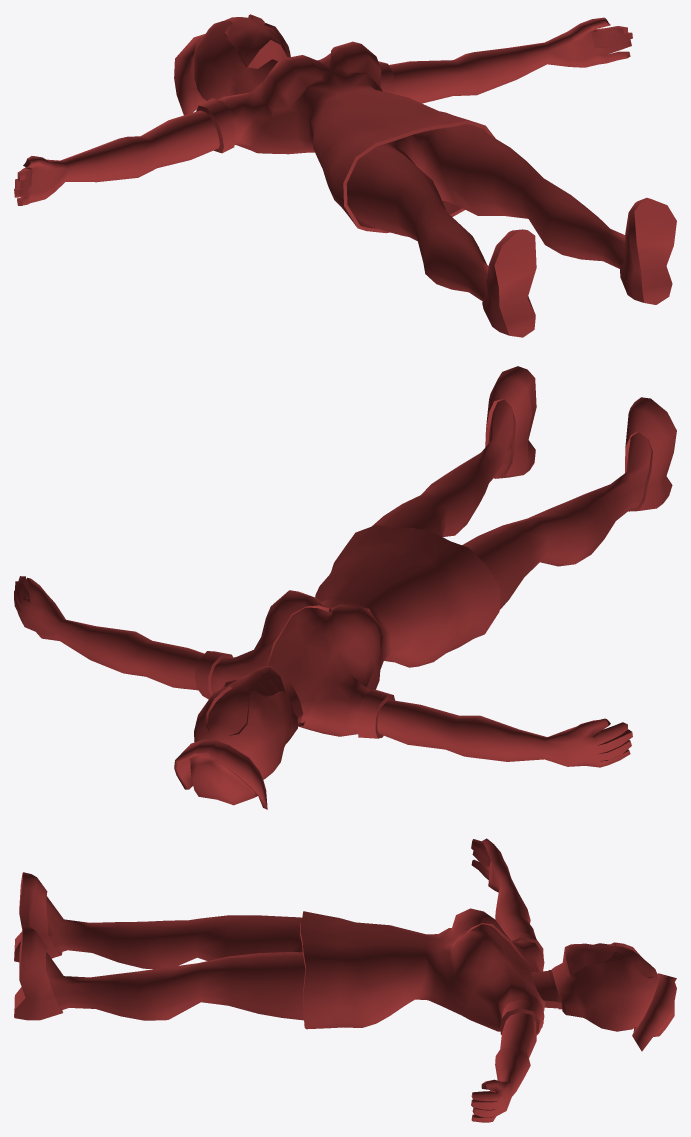
File: W_SH_Nurse.FBX
3 renders of one model, top to bottom at view 1: azimuth 30°, elevation 25°; view 2: azimuth 150°, elevation 25°; view 3: azimuth 270°, elevation 25°, orthographic. The views are drawn at different scales.
Visible parts, largest first — view 1: Body; view 2: Body; view 3: Body.
Part boxes in pixels (x1=…): Body: x1=14, y1=14, x2=676, y2=337; Body: x1=14, y1=366, x2=676, y2=809; Body: x1=14, y1=838, x2=676, y2=1122.
Size of the model in its own units: 104 by 24.94 by 112.
